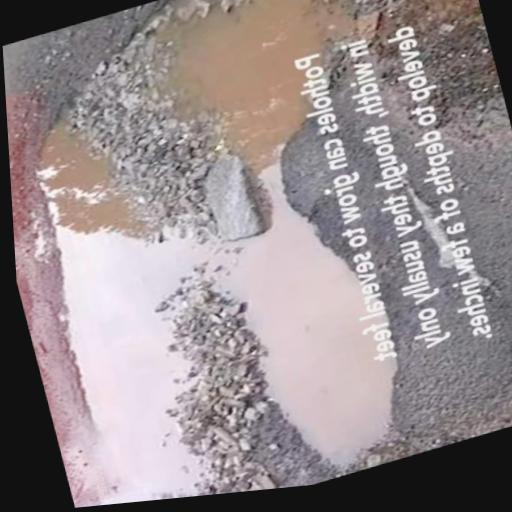pothole: (99, 0, 266, 4)
